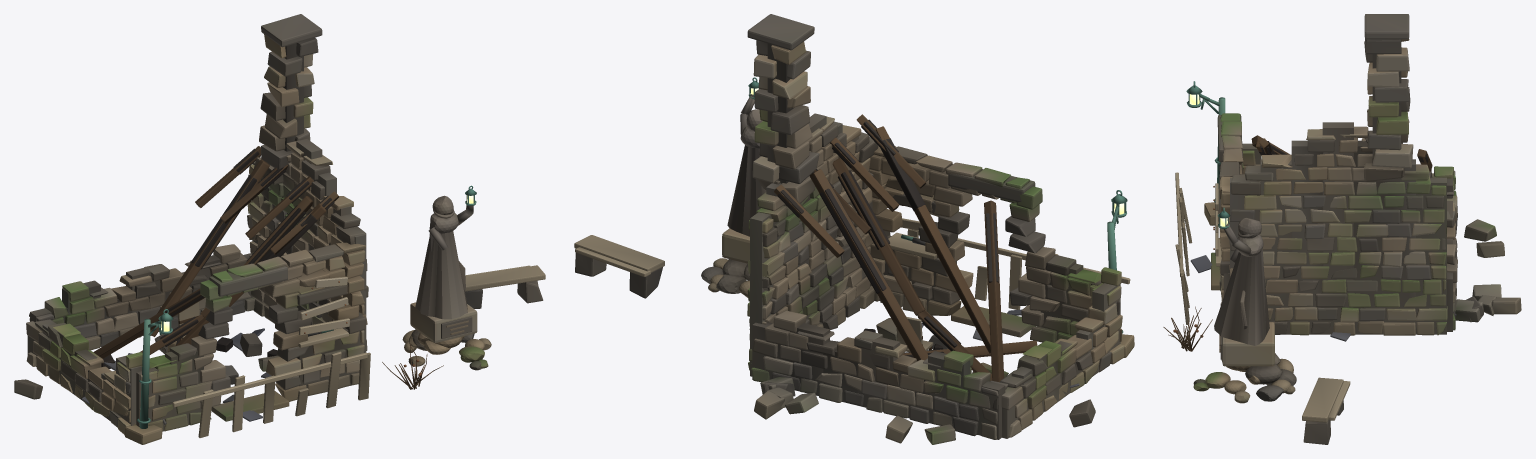
File: widow_memorial.glb
The picture shows the model from 3 angles, left to right: view 1: azimuth 30°, elevation 25°; view 2: azimuth 150°, elevation 25°; view 3: azimuth 270°, elevation 25°; orthographic projection. The views are drawn at different scales.
Visible parts, largest first — view 1: widow_memorial; view 2: widow_memorial; view 3: widow_memorial.
Boxes of the visible parts, left/top/right/bottom form: widow_memorial: left=14, top=14, right=545, bottom=444; widow_memorial: left=574, top=14, right=1134, bottom=444; widow_memorial: left=1163, top=14, right=1521, bottom=444.
Bounding box in the file's own units: 9.76 × 5.67 × 5.79.
